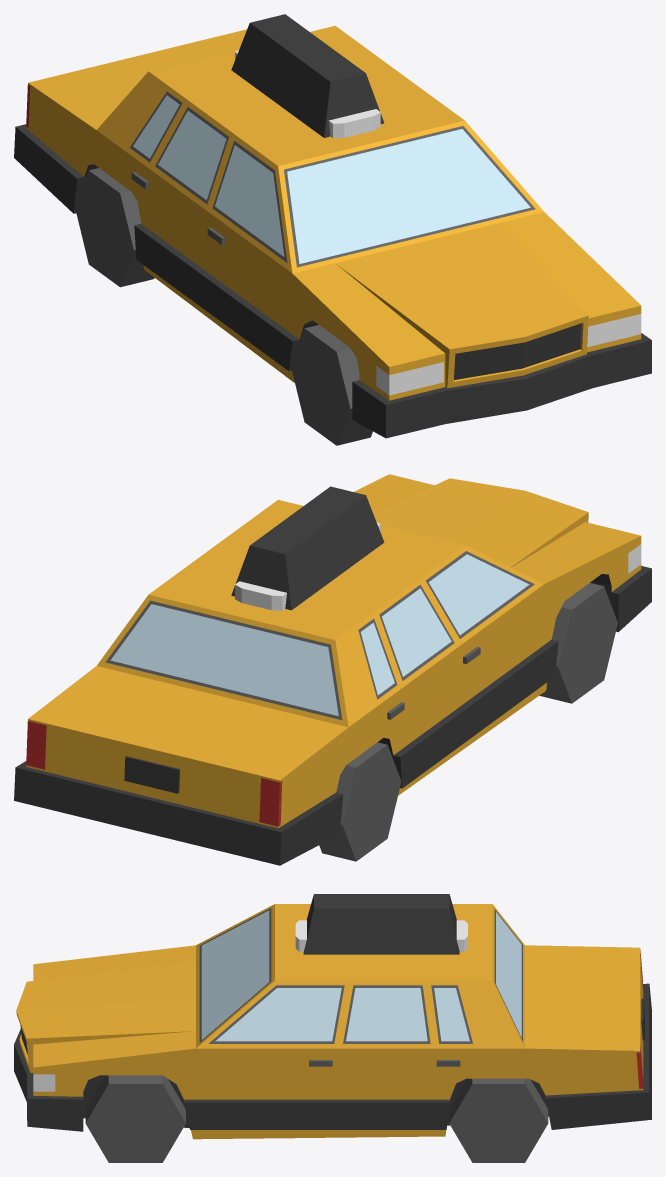
The model's file is Taxi.fbx.
3 renders of one model, top to bottom at view 1: azimuth 30°, elevation 25°; view 2: azimuth 150°, elevation 25°; view 3: azimuth 270°, elevation 25°, orthographic. The views are drawn at different scales.
Visible parts, largest first — view 1: Taxi; view 2: Taxi; view 3: Taxi.
Part boxes in pixels (box(x1,y1,x2,y2)): Taxi: box(14, 14, 651, 445); Taxi: box(14, 474, 651, 865); Taxi: box(14, 894, 651, 1162).
Size of the model in its own units: 3 by 2.63 by 7.37.
Materials: 1 (1 with a texture image).
